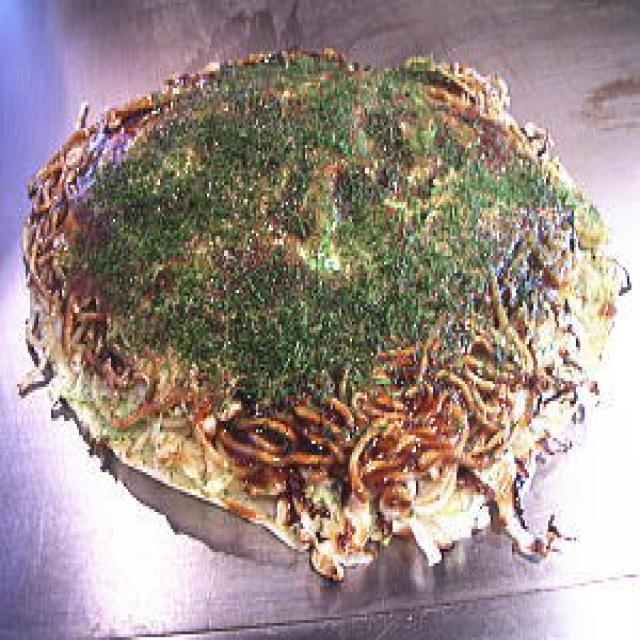蛋糕甜品: (13, 34, 623, 592)
